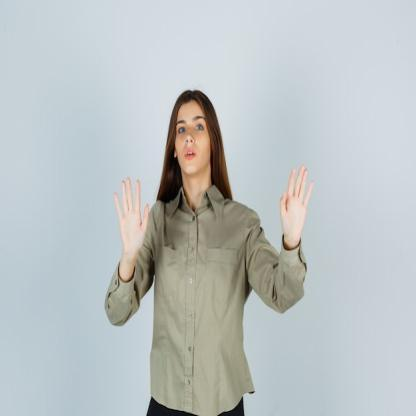stop: (111, 171, 152, 260), (280, 160, 316, 245)
